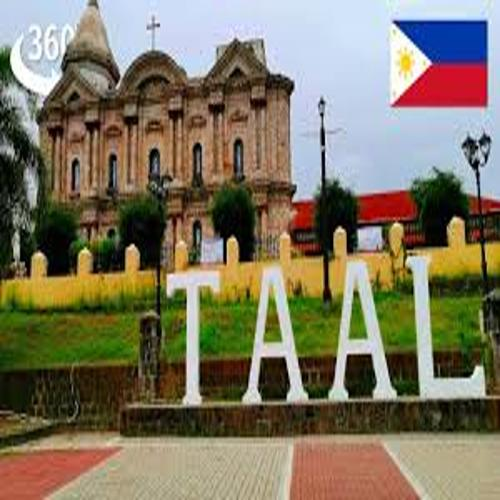Taal Basilica Church: (25, 2, 308, 274)
